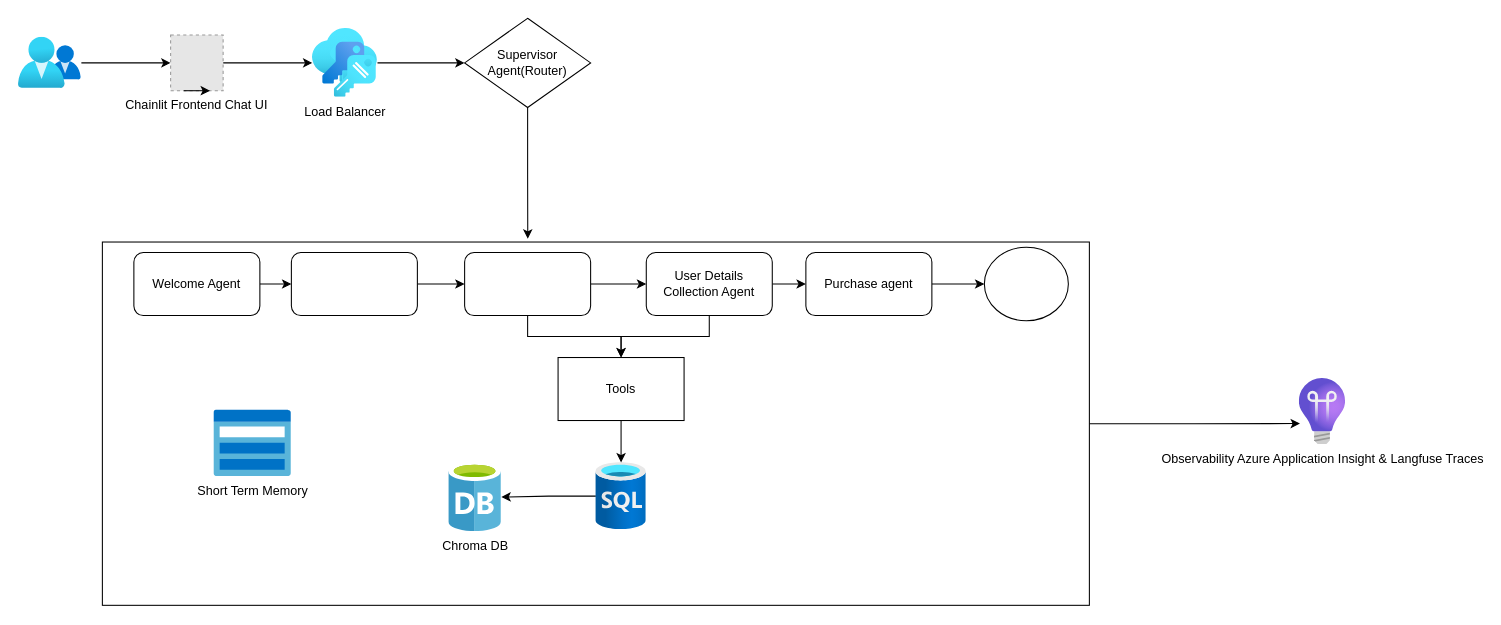
Image size: 1501x625. Some labels were removed from this diagram. Grey dashed boxes stand in for pictures. The centre of each missing label's shape, as x and y in pixels:
Demographics Collection Agent: the point at 353,283
FINISH: the point at 1025,283
Product Agent: the point at 527,283
Relational DB: the point at 620,495
User: the point at 49,62
